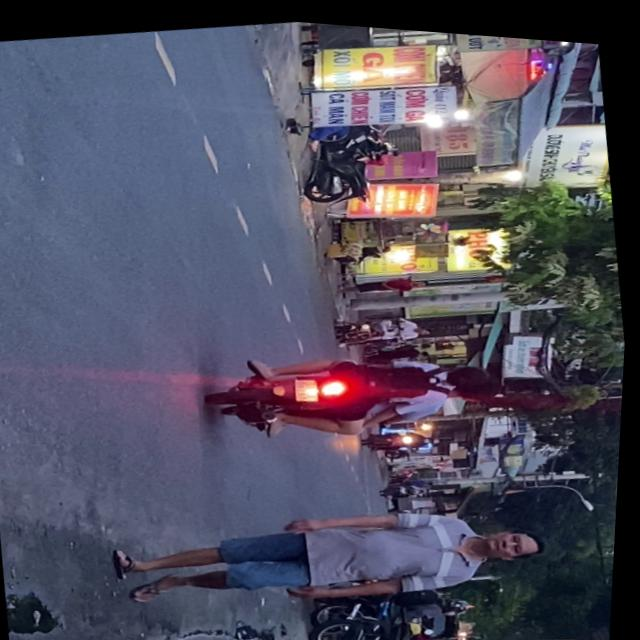licenseplate: (204, 318, 510, 456)
motorcyclist: (449, 363, 504, 397), (444, 352, 495, 385)
nohelmet: (297, 371, 325, 398)
